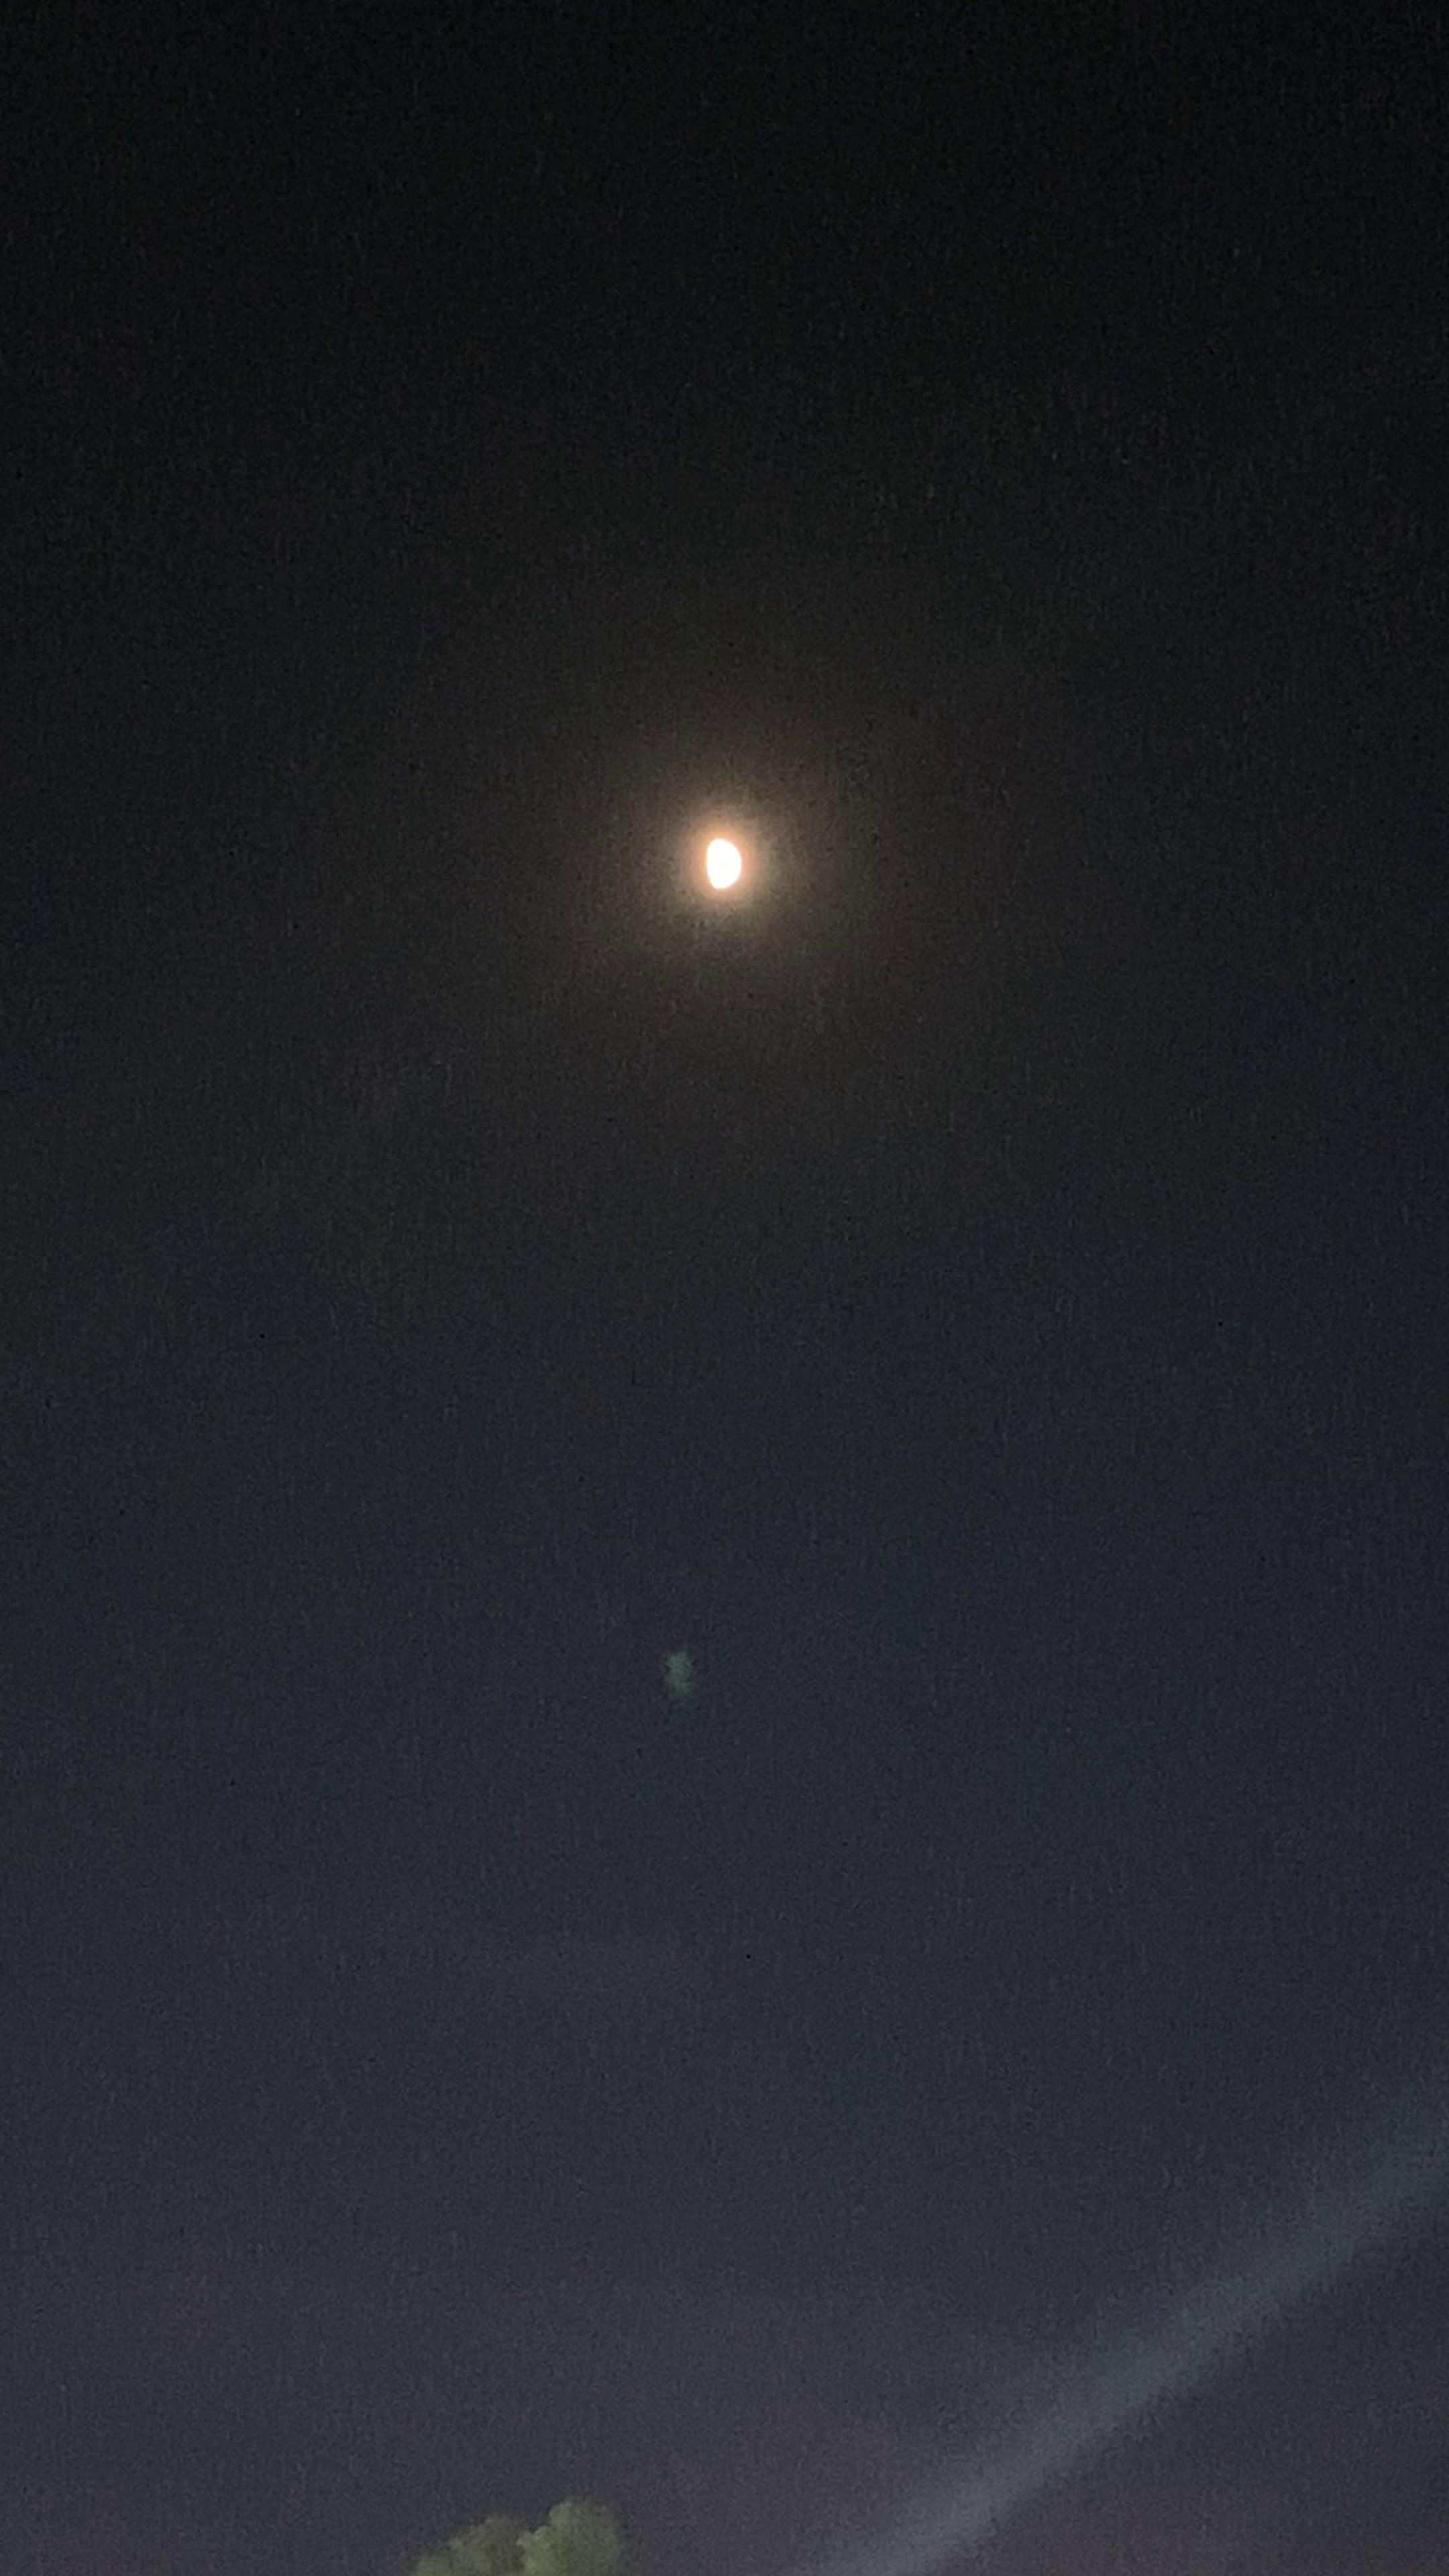moon: (671, 803, 787, 932)
